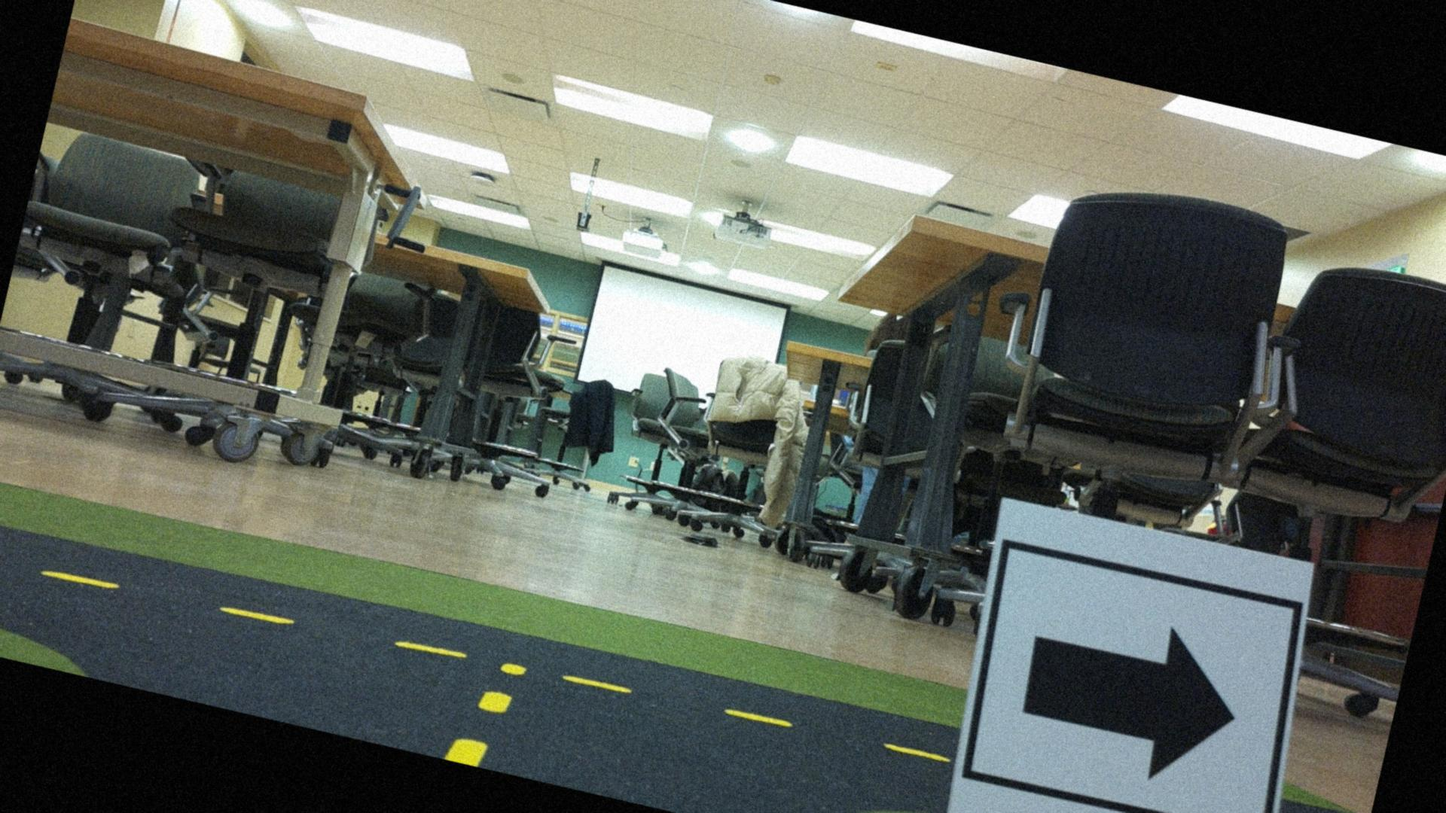turnleft: (936, 498, 1318, 812)
yellowline: (41, 546, 938, 778), (441, 681, 515, 772)
